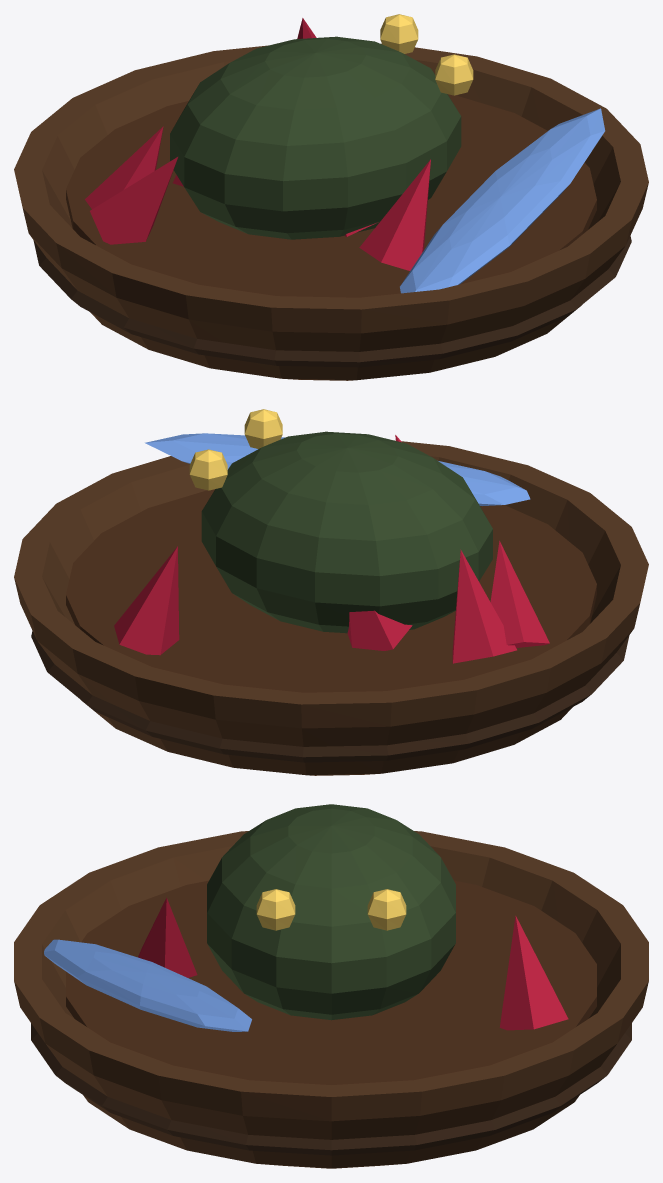
Rendered from VFP_Food_AsksvinEmberFeast.obj.
3 renders of one model, top to bottom at view 1: azimuth 30°, elevation 25°; view 2: azimuth 150°, elevation 25°; view 3: azimuth 270°, elevation 25°, orthographic.
Parts seen in each view (by area): view 1: Bowl, Creature, Fill, Feather, Crystals, Bowl_wood_dark, Creature_lure; view 2: Bowl, Creature, Fill, Crystals, Bowl_wood_dark, Feather, Creature_lure; view 3: Bowl, Fill, Creature, Bowl_wood_dark, Feather, Crystals, Creature_lure.
Part boxes in pixels (<box>): Bowl: <box>14,43,648,380</box>; Creature: <box>170,36,461,239</box>; Fill: <box>66,94,596,297</box>; Feather: <box>400,108,605,293</box>; Crystals: <box>85,18,430,270</box>; Bowl_wood_dark: <box>33,236,631,367</box>; Creature_lure: <box>380,14,473,95</box>; Bowl: <box>14,440,648,775</box>; Creature: <box>201,431,492,633</box>; Fill: <box>66,489,596,692</box>; Crystals: <box>114,435,549,663</box>; Bowl_wood_dark: <box>31,631,629,762</box>; Feather: <box>145,433,530,505</box>; Creature_lure: <box>189,409,282,490</box>; Bowl: <box>14,831,648,1168</box>; Fill: <box>66,880,596,1084</box>; Creature: <box>207,804,455,1020</box>; Bowl_wood_dark: <box>31,1023,631,1155</box>; Feather: <box>44,939,251,1031</box>; Crystals: <box>138,897,568,1030</box>; Creature_lure: <box>256,889,406,930</box>.
Size of the model in its own units: 0.3468 by 0.1563 by 0.3432.
